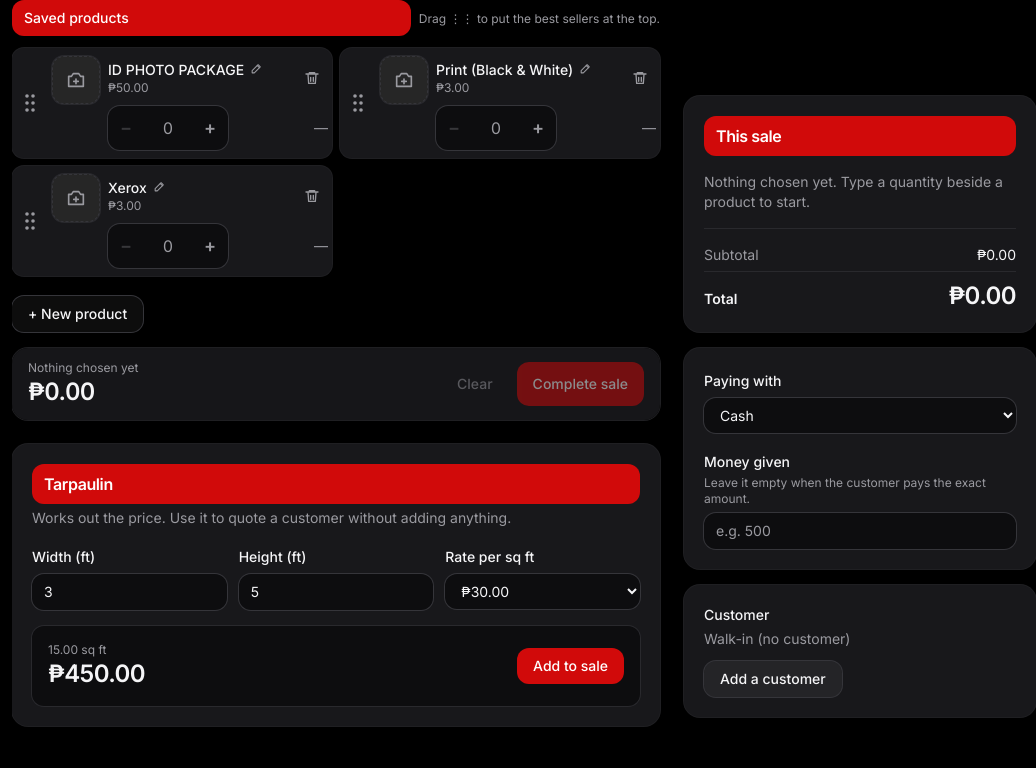
Test: the saved products list › keeps the + and − on each row only for that row
The image size is (1036, 768).
Click the button named "One more ID PHOTO PACKAGE".
click(210, 128)  # box [192, 106, 228, 150]
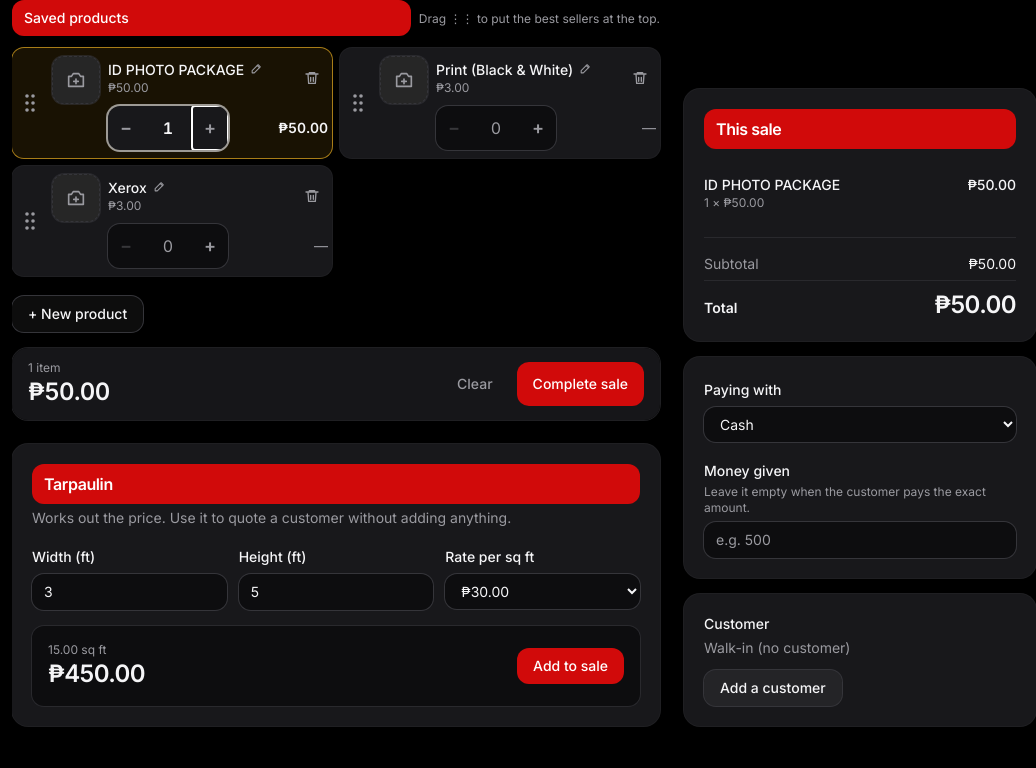
Expected: the field named "Quantity of Xerox" is empty, [144, 224, 192, 268]
Now the field named "Quantity of ID PHOTO PACKAGE" holds "1", box [144, 106, 192, 150]
